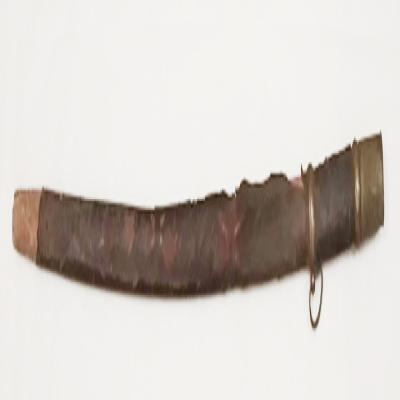weapon: (12, 135, 386, 332)
